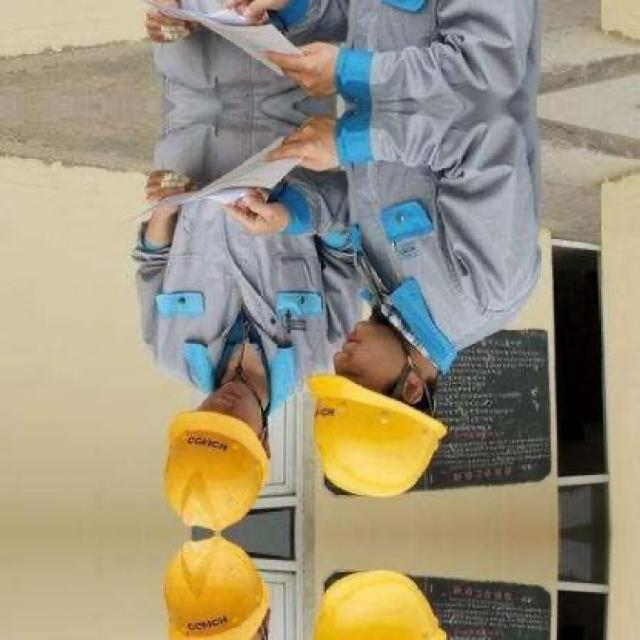con casco: (293, 322, 489, 501), (131, 412, 290, 534)
